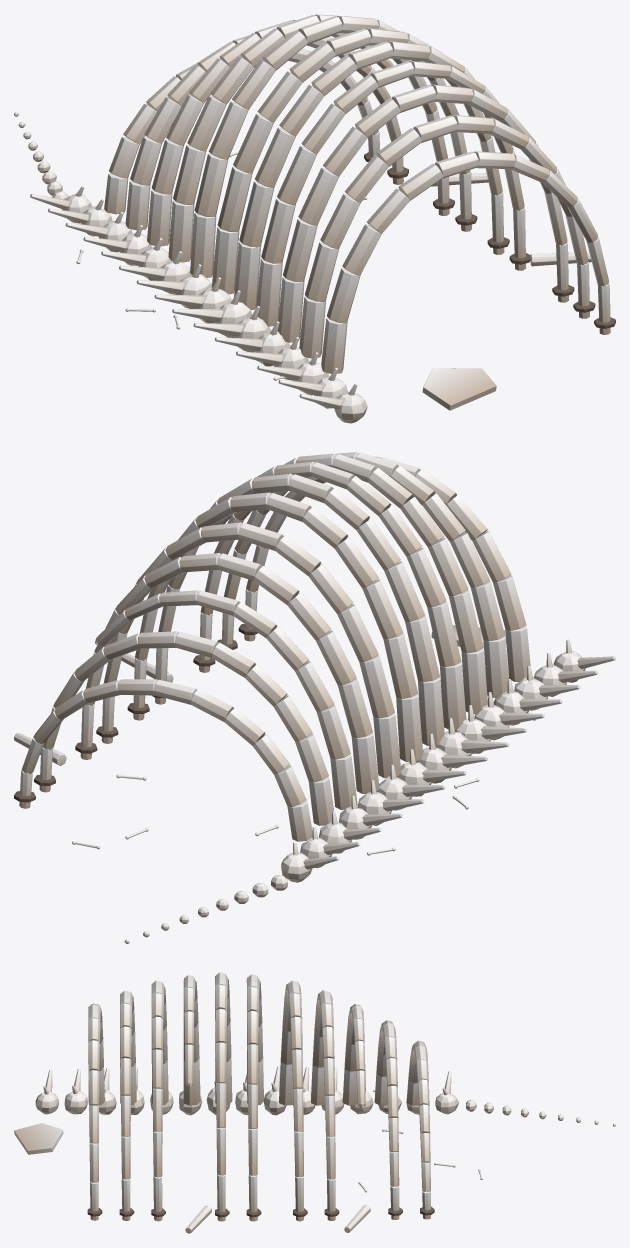
File: giant_ribcage.glb
The picture shows the model from 3 angles, top to bottom: view 1: azimuth 30°, elevation 25°; view 2: azimuth 150°, elevation 25°; view 3: azimuth 270°, elevation 25°; orthographic projection. The views are drawn at different scales.
Parts seen in each view (by area): view 1: giant_ribcage; view 2: giant_ribcage; view 3: giant_ribcage.
Part boxes in pixels (x1=…): giant_ribcage: x1=14, y1=14, x2=615, y2=423; giant_ribcage: x1=14, y1=452, x2=615, y2=943; giant_ribcage: x1=14, y1=972, x2=615, y2=1233.
Size of the model in its own units: 21.33 by 12.85 by 36.96.
Materials: 1 (1 with a texture image).
